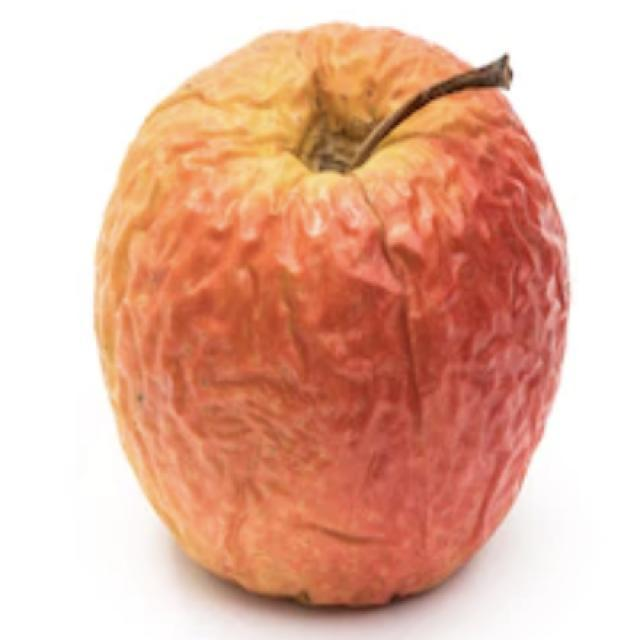Rotten: (98, 23, 575, 607)
